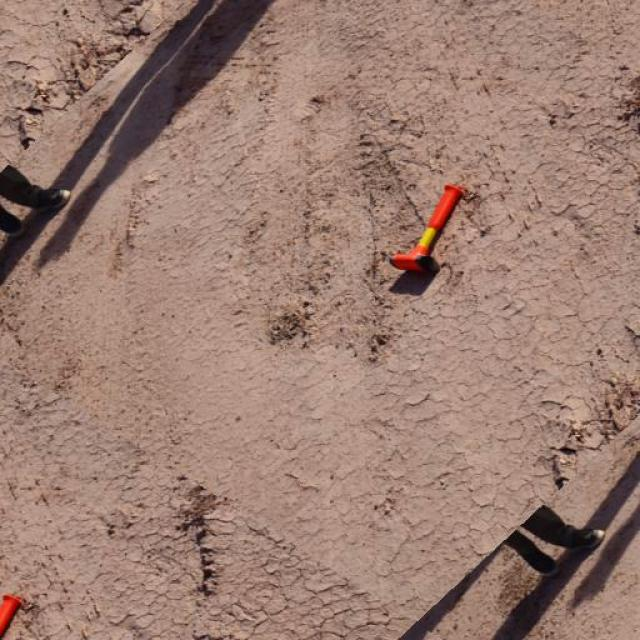mallet: (390, 181, 470, 275)
